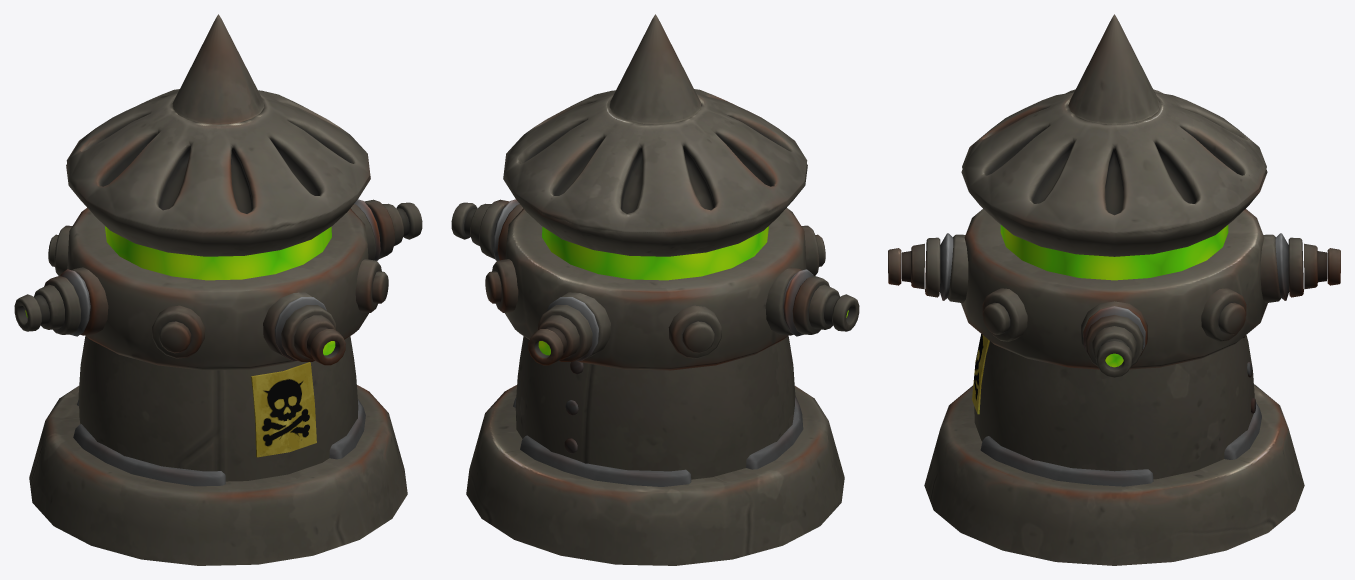
The model's file is SM_TowerDefense_Venom_Lv1.fbx.
3 views of the same model, side by side, from view 1: azimuth 30°, elevation 25°; view 2: azimuth 150°, elevation 25°; view 3: azimuth 270°, elevation 25° (orthographic).
Visible parts, largest first — view 1: SM_TowerDefense_Venom_Lv1; view 2: SM_TowerDefense_Venom_Lv1; view 3: SM_TowerDefense_Venom_Lv1.
Boxes of the visible parts, x1,y1,x2,y2 form: SM_TowerDefense_Venom_Lv1: (14, 14, 422, 565); SM_TowerDefense_Venom_Lv1: (451, 14, 859, 565); SM_TowerDefense_Venom_Lv1: (888, 14, 1340, 565).
Bounding box in the file's own units: 1323 × 1520 × 1323.
